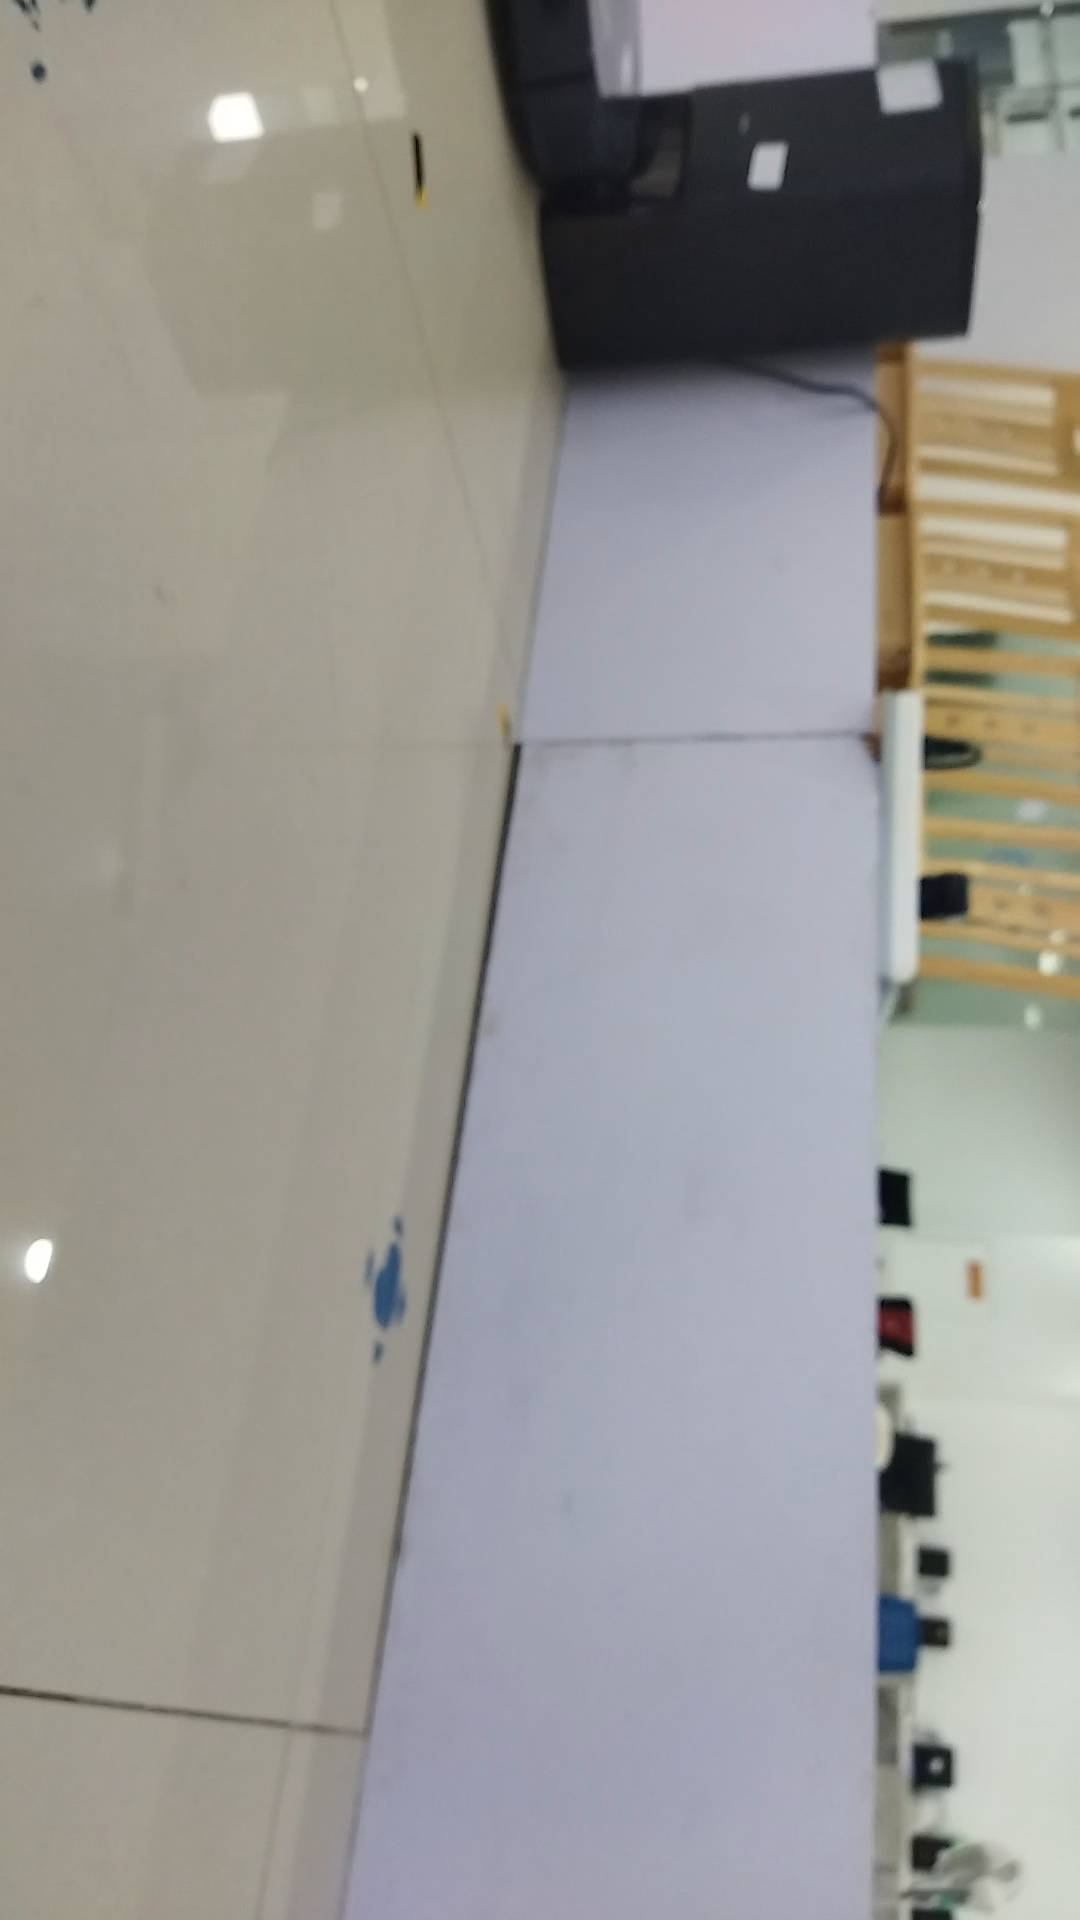dust collecting barrel: (541, 54, 981, 378)
